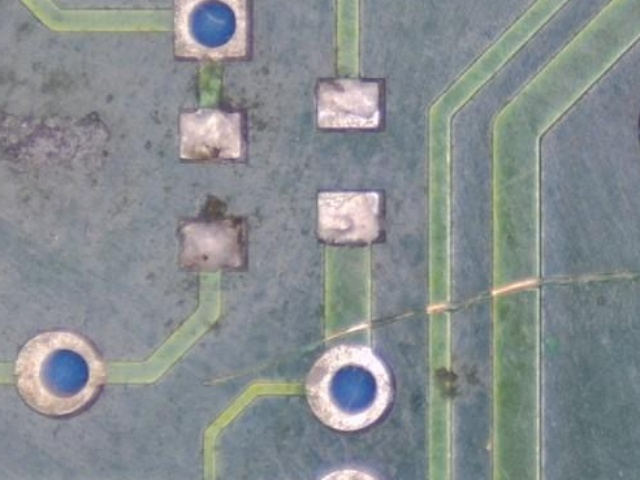pcb_defect: (307, 272, 640, 350), (202, 363, 273, 386)
